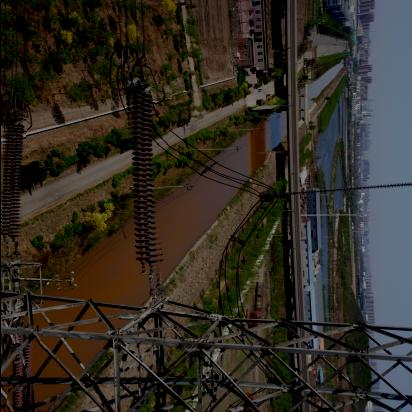insulator: (122, 85, 170, 276), (1, 119, 26, 243), (9, 324, 41, 412)
